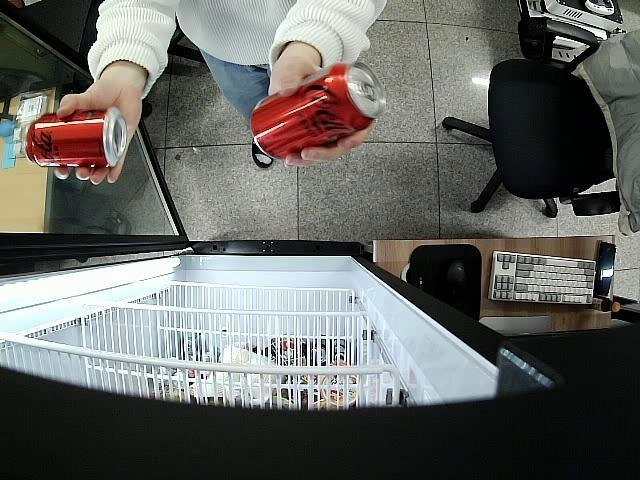11_cocaColaZero: (248, 62, 386, 158), (25, 107, 126, 172)
